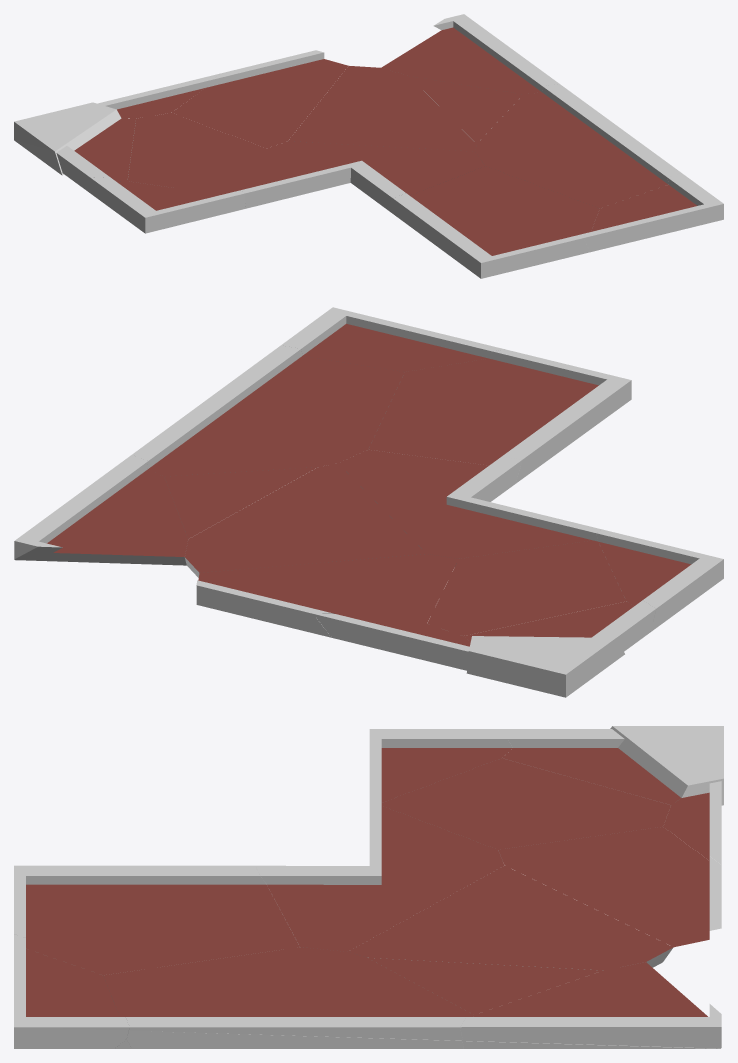
File: roof01_Cx.fbx
3 views of the same model, one above another, from view 1: azimuth 30°, elevation 25°; view 2: azimuth 150°, elevation 25°; view 3: azimuth 270°, elevation 25° (orthographic). The views are drawn at different scales.
Visible parts, largest first — view 1: roof01_C_cell.013, roof01_C_cell.007, roof01_C_cell.008, roof01_C_cell.017, roof01_C_cell.004, roof01_C_cell.015, roof01_C_cell.012, roof01_C_cell.005, roof01_C_cell.009, roof01_C_cell.010, roof01_C_cell.006, roof01_C_cell.014 (+1 smaller); view 2: roof01_C_cell.007, roof01_C_cell.013, roof01_C_cell.008, roof01_C_cell.017, roof01_C_cell.004, roof01_C_cell.015, roof01_C_cell.012, roof01_C_cell.005, roof01_C_cell.010, roof01_C_cell.009, roof01_C_cell.006, roof01_C_cell.002 (+1 smaller); view 3: roof01_C_cell.007, roof01_C_cell.013, roof01_C_cell.017, roof01_C_cell.008, roof01_C_cell.004, roof01_C_cell.012, roof01_C_cell.015, roof01_C_cell.005, roof01_C_cell.009, roof01_C_cell.014, roof01_C_cell.006, roof01_C_cell.010 (+1 smaller).
Part boxes in pixels (x1,y1,x2,y2): roof01_C_cell.013: (387, 166, 599, 278); roof01_C_cell.007: (475, 84, 680, 208); roof01_C_cell.008: (240, 141, 484, 209); roof01_C_cell.017: (288, 66, 476, 151); roof01_C_cell.004: (172, 50, 348, 148); roof01_C_cell.015: (127, 113, 266, 194); roof01_C_cell.012: (381, 14, 559, 94); roof01_C_cell.005: (584, 173, 723, 252); roof01_C_cell.009: (86, 177, 245, 233); roof01_C_cell.010: (14, 102, 121, 175); roof01_C_cell.006: (410, 76, 523, 143); roof01_C_cell.014: (56, 118, 135, 189); roof01_C_cell.007: (132, 345, 404, 476); roof01_C_cell.013: (368, 349, 631, 483); roof01_C_cell.008: (338, 449, 601, 565); roof01_C_cell.017: (185, 463, 426, 577); roof01_C_cell.004: (196, 554, 458, 637); roof01_C_cell.015: (427, 534, 626, 635); roof01_C_cell.012: (14, 454, 188, 565); roof01_C_cell.005: (281, 307, 504, 371); roof01_C_cell.010: (466, 636, 624, 697); roof01_C_cell.009: (596, 529, 723, 631); roof01_C_cell.006: (164, 467, 317, 538); roof01_C_cell.002: (313, 613, 470, 670); roof01_C_cell.007: (103, 947, 473, 1048); roof01_C_cell.013: (14, 865, 299, 975); roof01_C_cell.017: (348, 865, 673, 970); roof01_C_cell.008: (255, 795, 504, 951); roof01_C_cell.004: (498, 827, 721, 947); roof01_C_cell.012: (460, 962, 721, 1048); roof01_C_cell.015: (381, 758, 670, 850); roof01_C_cell.005: (14, 934, 129, 1048); roof01_C_cell.009: (369, 729, 518, 802); roof01_C_cell.014: (502, 729, 681, 804); roof01_C_cell.006: (368, 958, 602, 1014); roof01_C_cell.010: (610, 726, 723, 805).
Size of the model in its own units: 1649 by 65.57 by 1653.
